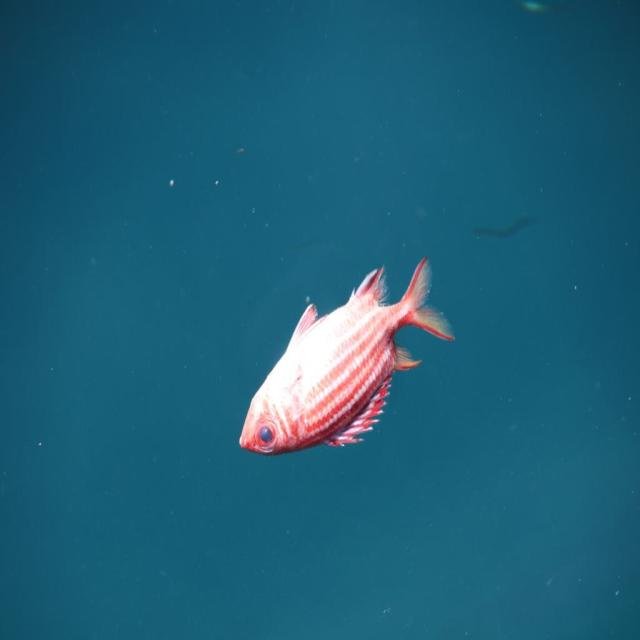Asker Baligi: (237, 254, 455, 457)
